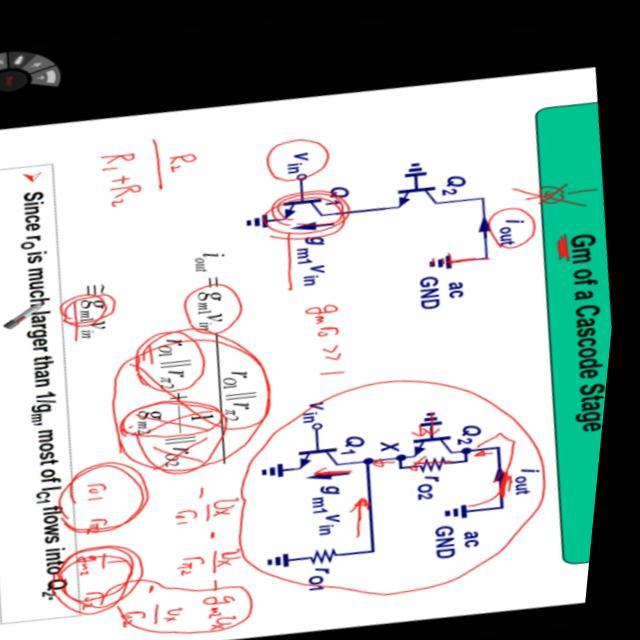panseo: (49, 443, 283, 640), (73, 114, 231, 230), (290, 279, 374, 391), (513, 156, 611, 217)
